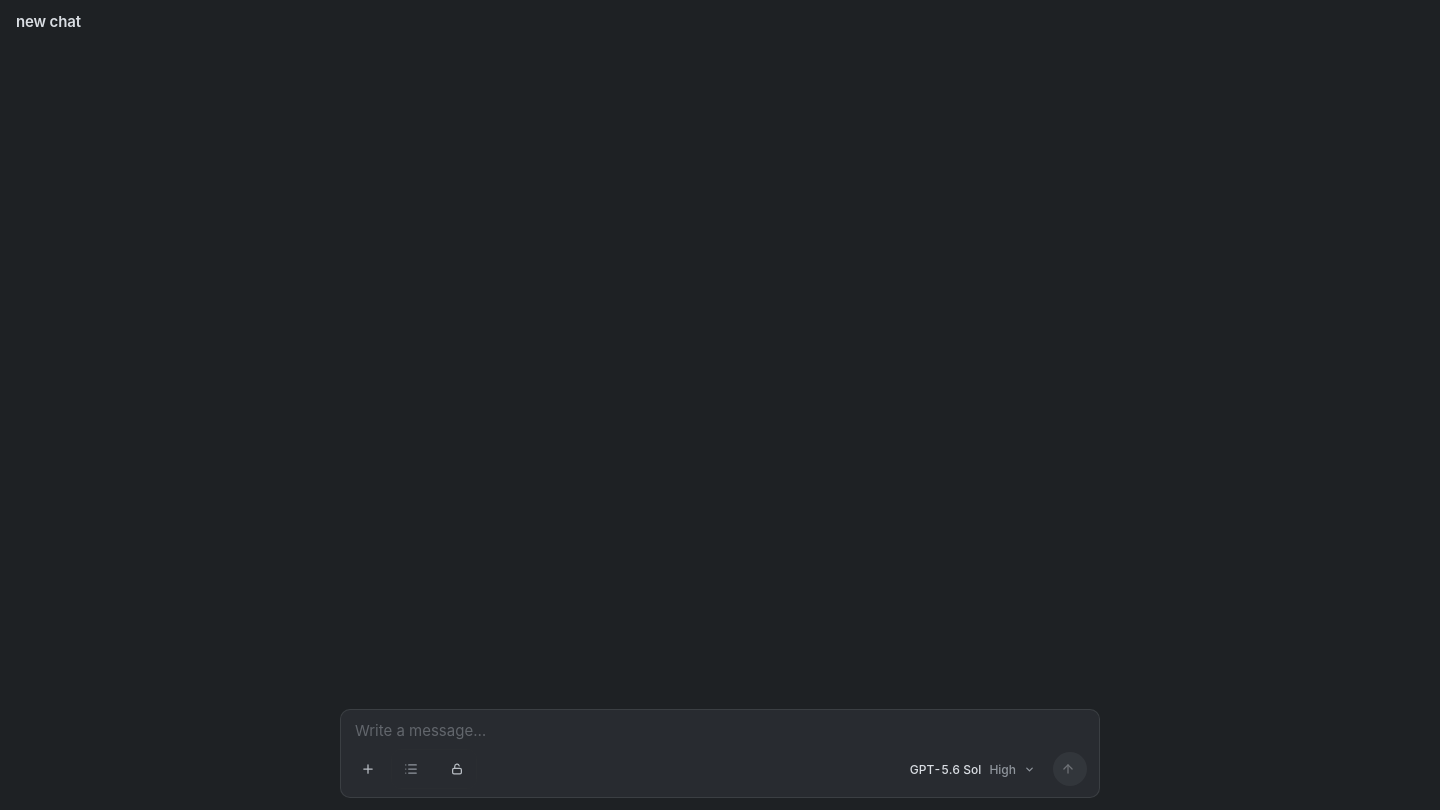
composer — mode Fast (niveau de service Codex) › le toggle apparaît pour Codex
This screenshot has width=1440, height=810.
Click the button with class "mp-model". click: {"x": 972, "y": 769}
box: [902, 754, 1043, 784]
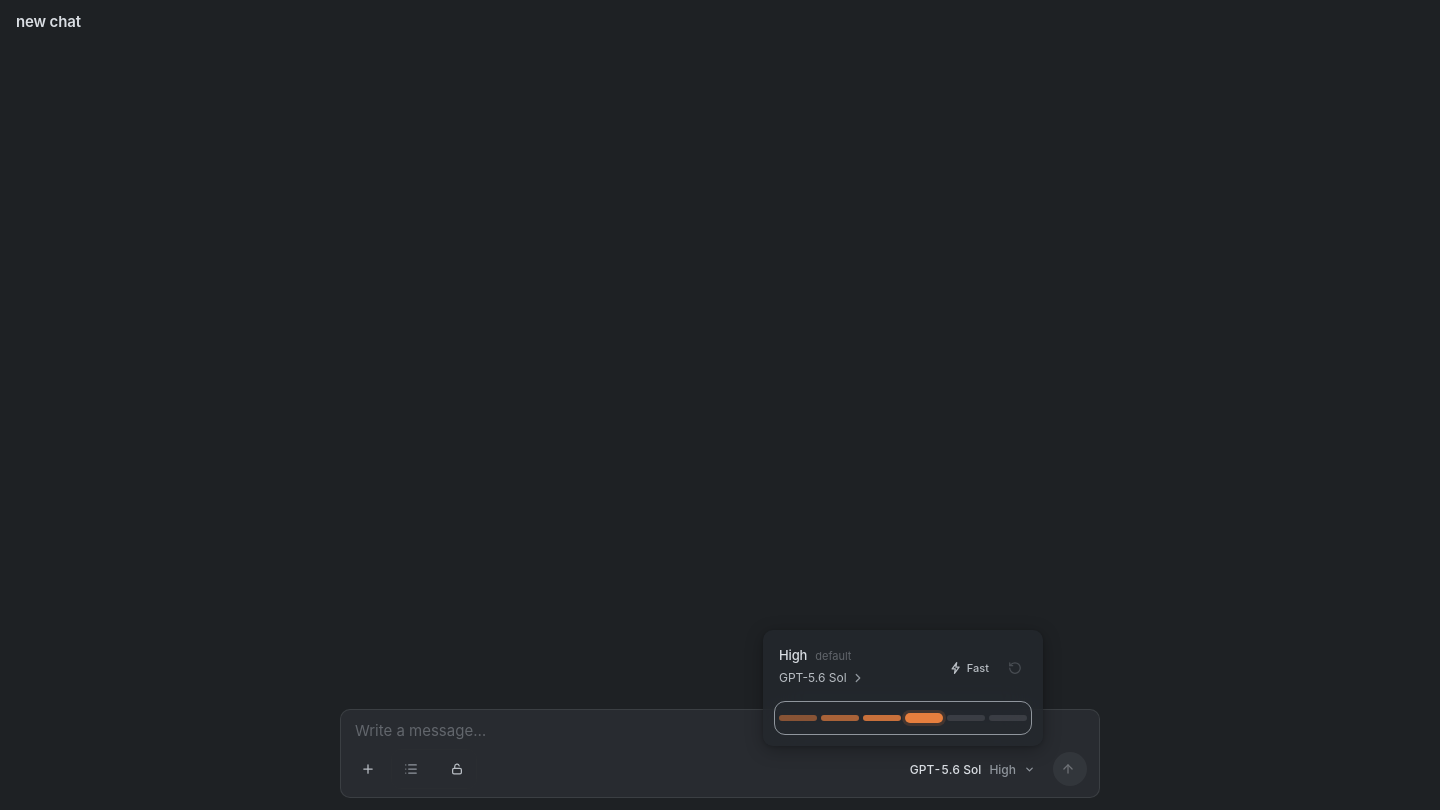
Now the button with class "tier-toggle" is shown, box [943, 656, 995, 680]
Now the 2nd icon is shown, box [949, 661, 963, 675]
